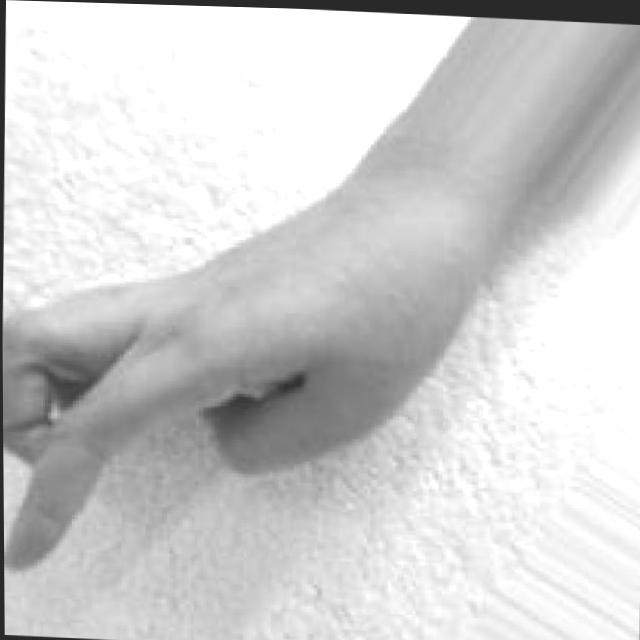P: (2, 209, 439, 596)
